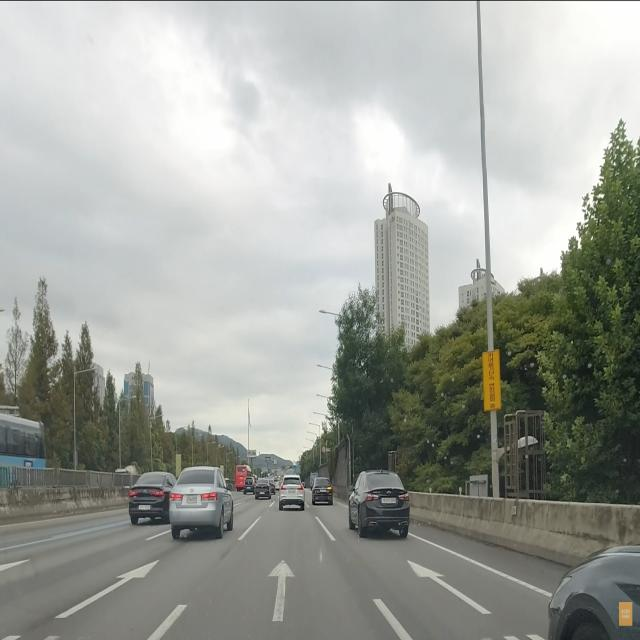forward: (154, 548, 401, 636)
